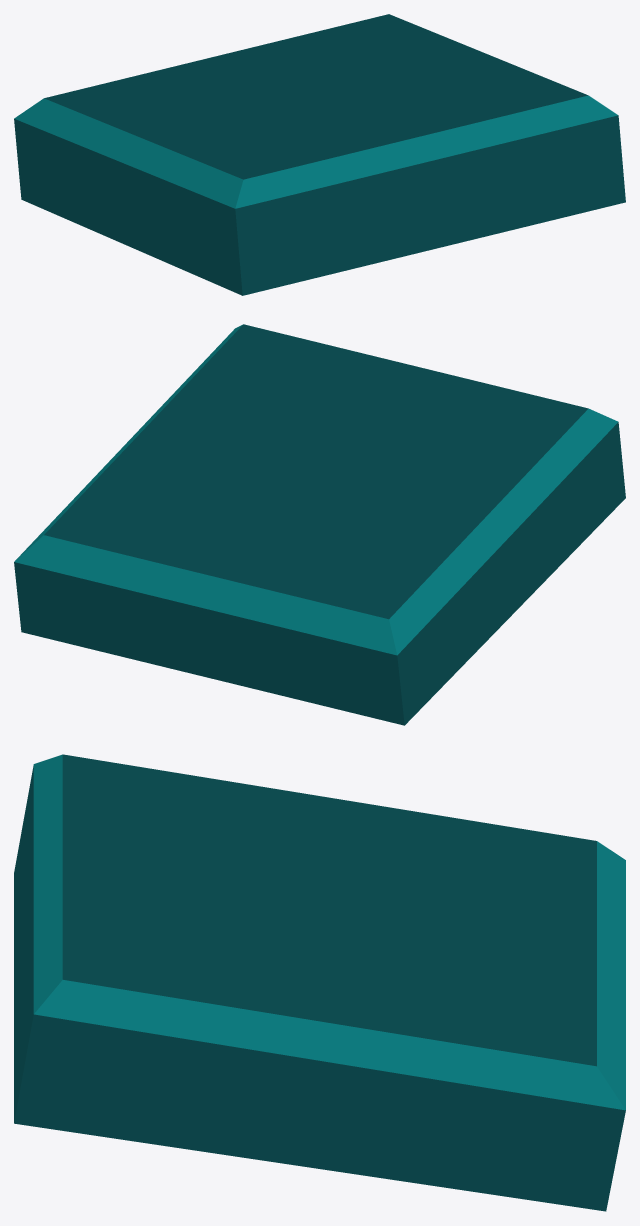
File: lightblue_button.glb
3 renders of one model, top to bottom at view 1: azimuth 30°, elevation 25°; view 2: azimuth 150°, elevation 25°; view 3: azimuth 270°, elevation 25°, orthographic. The views are drawn at different scales.
Visible parts, largest first — view 1: Lightblue_Button; view 2: Lightblue_Button; view 3: Lightblue_Button.
Boxes of the visible parts, <box> form: Lightblue_Button: <box>14,14,625,295</box>; Lightblue_Button: <box>14,324,625,725</box>; Lightblue_Button: <box>14,754,625,1211</box>.
Size of what is drawn, in the model's own units: 0.2721 by 0.1112 by 0.2812.
1 material, 1 textured.
